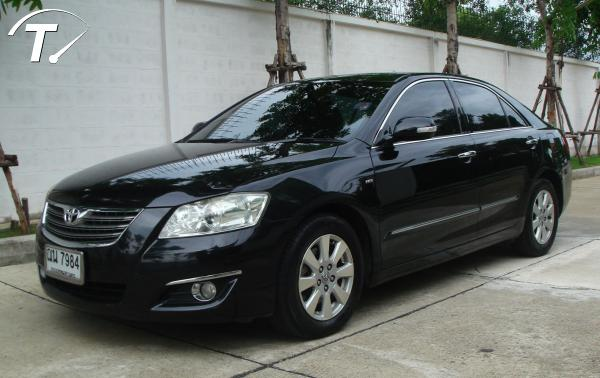sedan: (33, 71, 573, 339)
